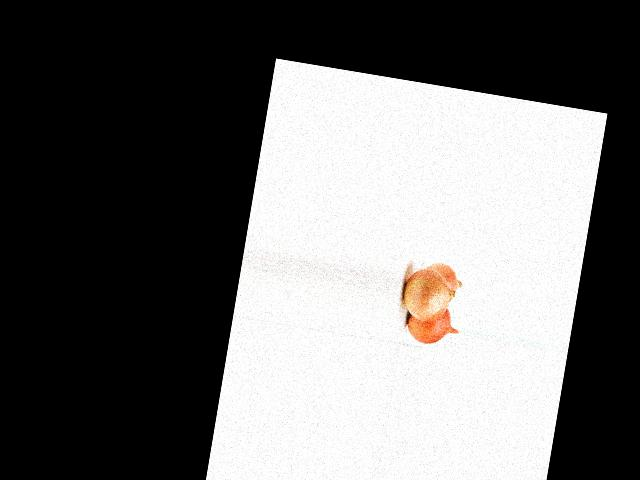onion: (401, 300, 458, 348)
